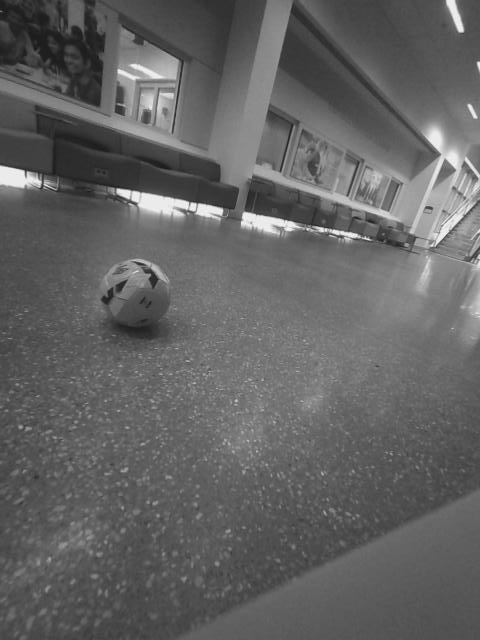ball: (147, 318, 245, 423)
